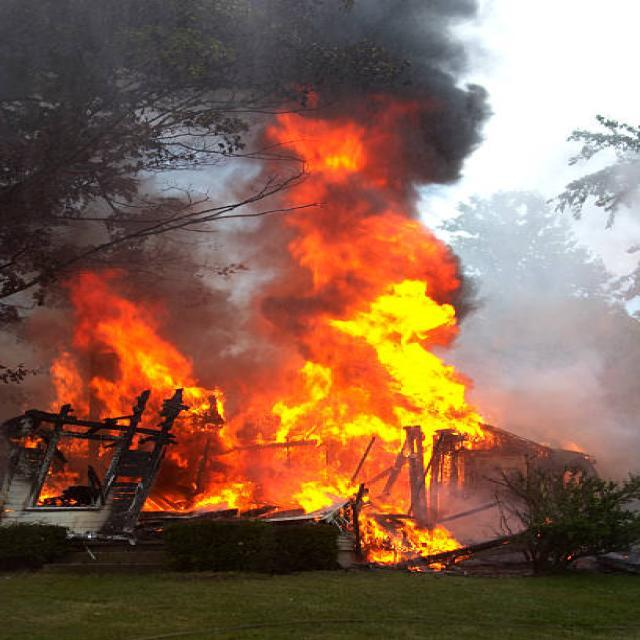Fire: (96, 128, 518, 530)
Smoke: (226, 6, 509, 350)
